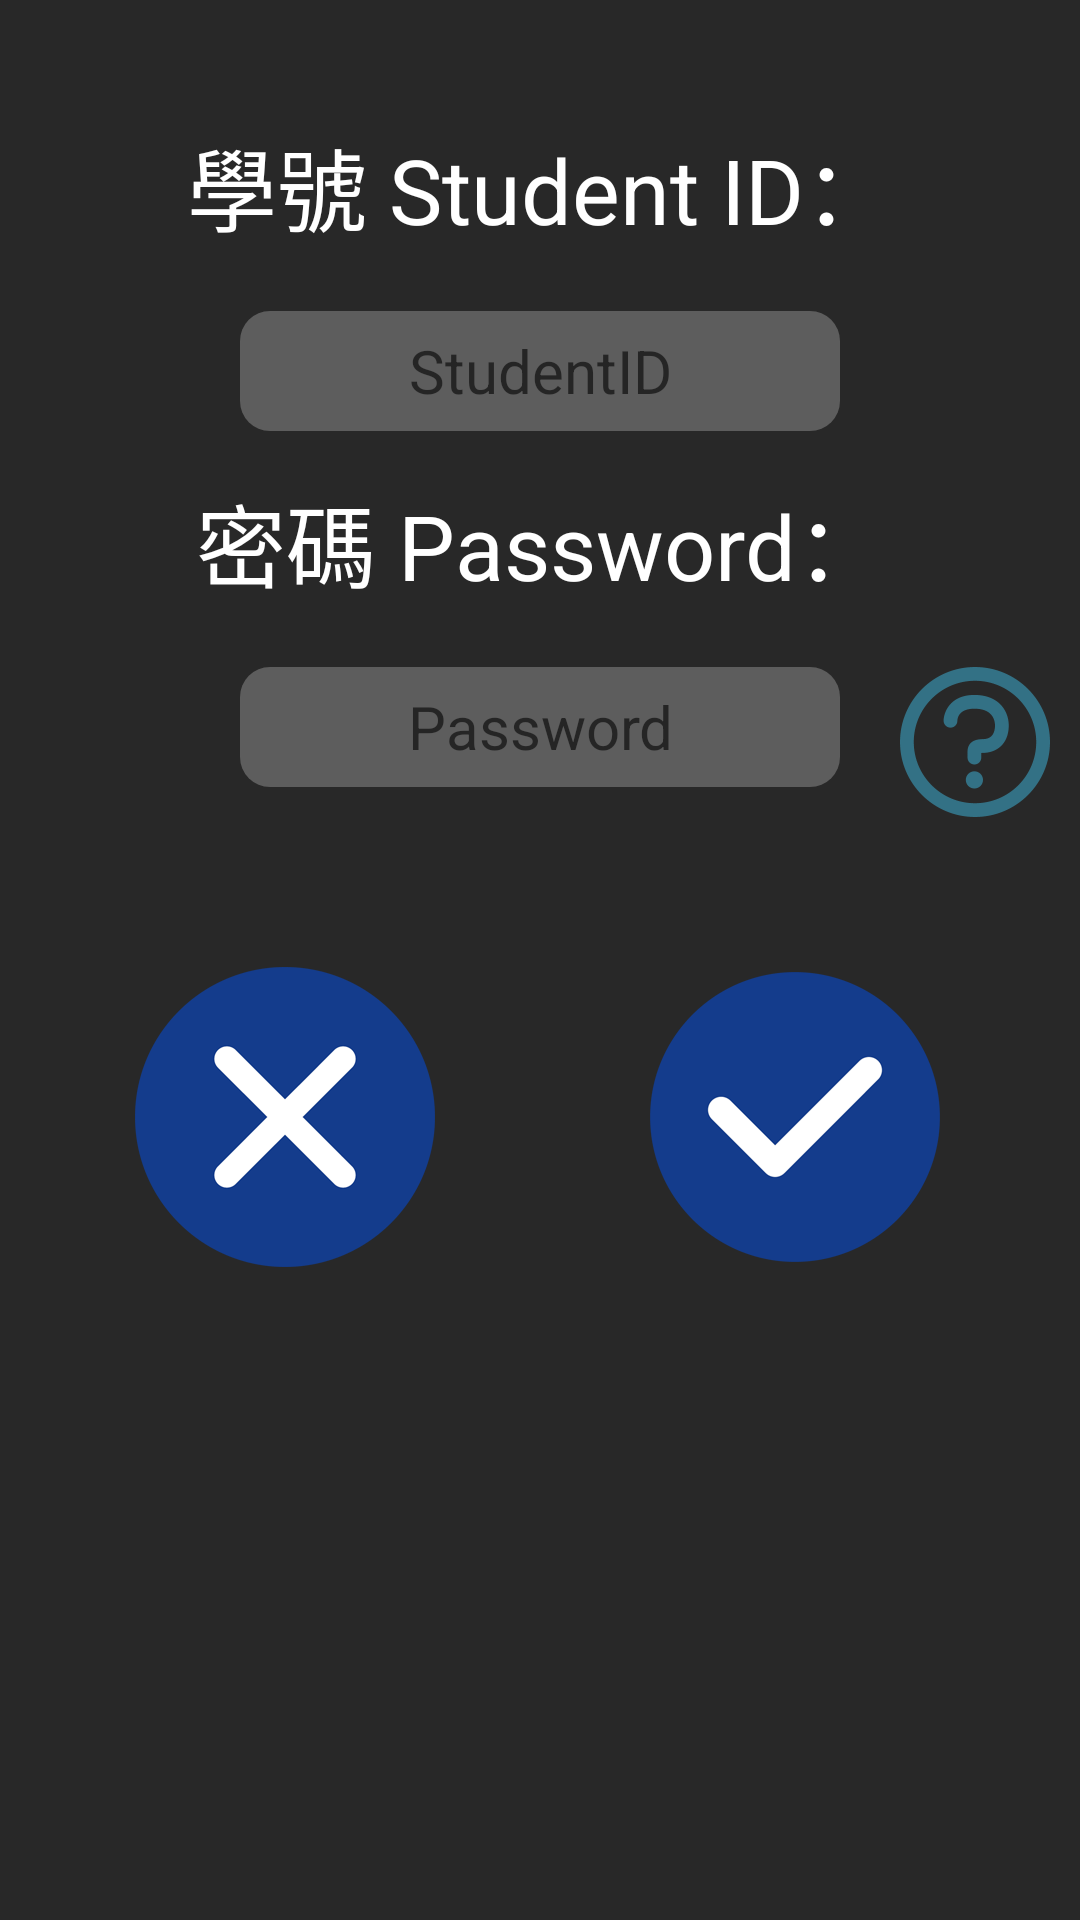

Locate icon controls on the screen. Image size 1080*1920, boxes as (x1, y1, x2, y2).
btnconfirm: (650, 972, 940, 1262)
question: (900, 667, 1050, 817)
